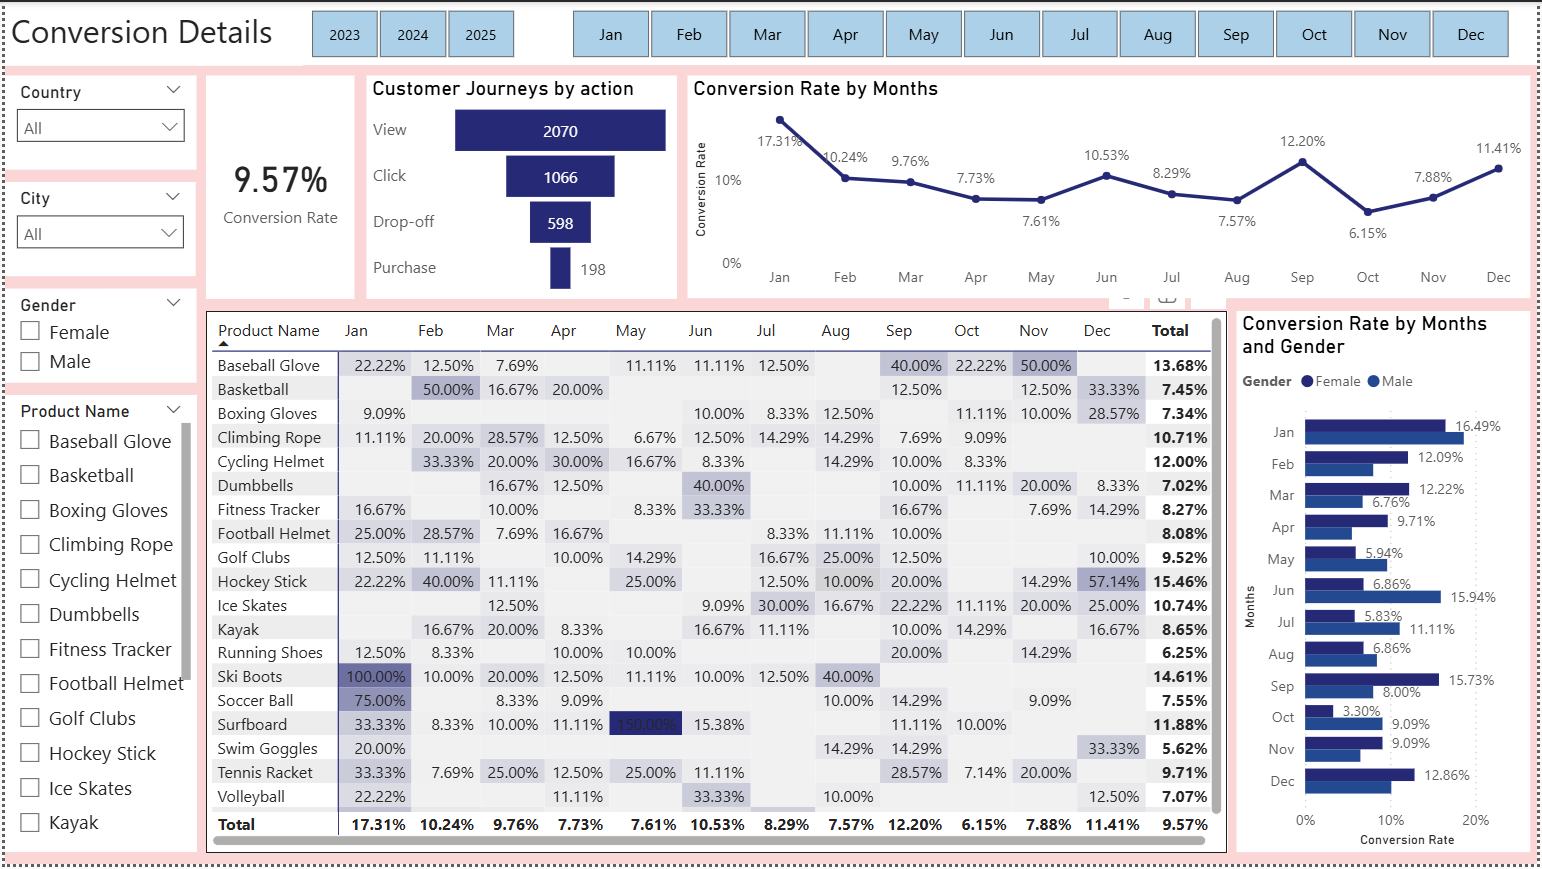

The dashboard page shown, as its layout file describes it:
{"tool":"powerbi","page":{"name":"Conversion Details","canvas":[1280,720],"ordinal":1},"visuals":[{"type":"textbox","box":[0,0,248.3,53.3],"z":0},{"type":"card","fields":{"Values":["_measures.Conversion Rate"]},"box":[168.5,61.9,123.8,186.7],"z":1000},{"type":"funnel","fields":{"Y":["_measures.Number of Customer Journeys"],"Category":["gold fact_customer_journey.action"]},"box":[301.4,61.9,259.5,186.7],"z":2000},{"type":"pivotTable","fields":{"Columns":["Calendar.MonthNameShort"],"Rows":["gold dim_products.product_name"],"Values":["_measures.Conversion Rate"]},"box":[168.3,258.3,853.3,451.7],"z":3000},{"type":"lineChart","fields":{"Y":["_measures.Conversion Rate"],"Category":["Calendar.MonthNameShort"]},"box":[570,62,704,186],"z":4000},{"type":"slicer","fields":{"Values":["Calendar.MonthNameShort"]},"box":[448.6,0,831.4,52.9],"z":5000},{"type":"slicer","fields":{"Values":["Calendar.Year"]},"box":[230,0,218.6,52.9],"z":6000},{"type":"clusteredBarChart","fields":{"Y":["_measures.Conversion Rate"],"Category":["Calendar.MonthNameShort"],"Series":["gold dim_customers.gender"]},"box":[1028.3,258.3,245,451.7],"z":8000},{"type":"slicer","fields":{"Values":["gold dim_customers.city"]},"box":[0,150,159.3,78.3],"z":9000},{"type":"slicer","fields":{"Values":["gold dim_customers.country"]},"box":[0,61.7,160,78.3],"z":10000},{"type":"slicer","fields":{"Values":["gold dim_products.product_name"]},"box":[0,328.6,160,381.4],"z":11000},{"type":"slicer","fields":{"Values":["gold dim_customers.gender"]},"box":[0,239,160,78.6],"z":12000}]}

Visuals, with their boxes in screenshot pixels (x1, y1, x2, y2), scaled from the page's 1280x720 canvas onto the 1542x869 screenshot:
textbox: locate(0, 0, 299, 64)
card - _measures.Conversion Rate: locate(203, 75, 352, 300)
funnel - _measures.Number of Customer Journeys x gold fact_customer_journey.action: locate(363, 75, 676, 300)
pivotTable - Calendar.MonthNameShort x gold dim_products.product_name: locate(203, 312, 1231, 857)
lineChart - _measures.Conversion Rate x Calendar.MonthNameShort: locate(687, 75, 1535, 299)
slicer - Calendar.MonthNameShort: locate(540, 0, 1541, 64)
slicer - Calendar.Year: locate(277, 0, 540, 64)
clusteredBarChart - _measures.Conversion Rate x Calendar.MonthNameShort: locate(1239, 312, 1534, 857)
slicer - gold dim_customers.city: locate(0, 181, 192, 276)
slicer - gold dim_customers.country: locate(0, 74, 193, 169)
slicer - gold dim_products.product_name: locate(0, 397, 193, 857)
slicer - gold dim_customers.gender: locate(0, 288, 193, 383)
